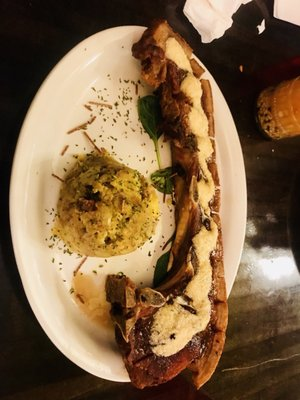curry: (1, 0, 298, 346)
